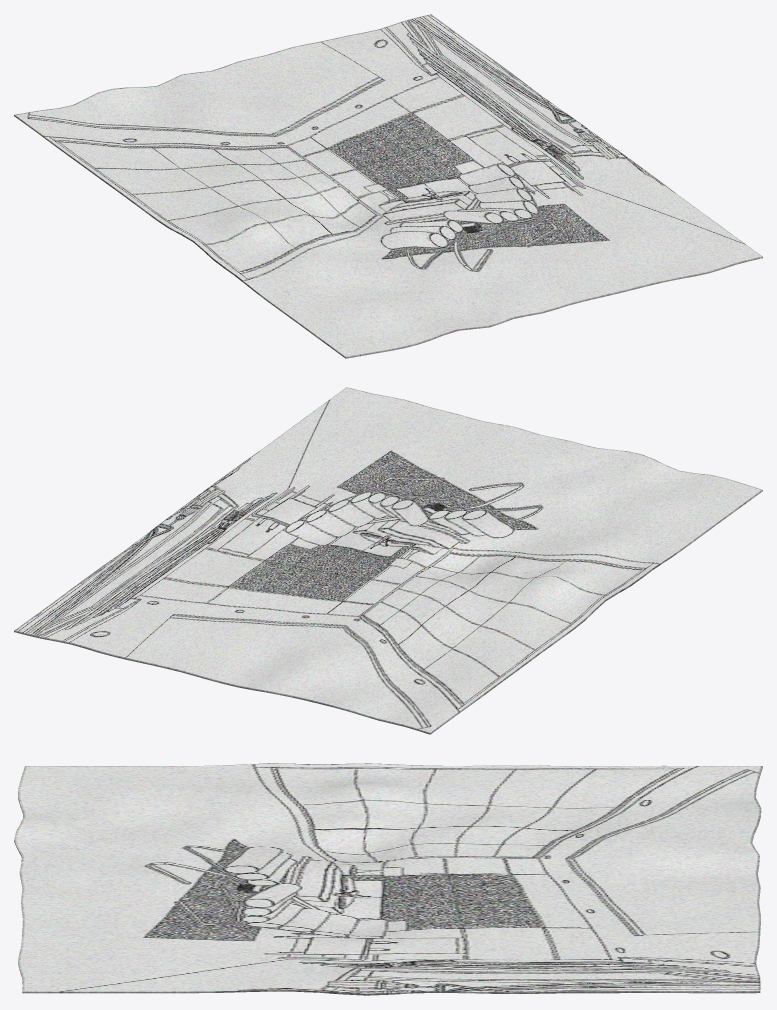
The model's file is 設計圖1.fbx.
3 views of the same model, one above another, from view 1: azimuth 30°, elevation 25°; view 2: azimuth 150°, elevation 25°; view 3: azimuth 270°, elevation 25° (orthographic). The views are drawn at different scales.
Parts seen in each view (by area): view 1: Plane001; view 2: Plane001; view 3: Plane001.
Part boxes in pixels (x1,y1,x2,y2): Plane001: [14, 14, 762, 358]; Plane001: [14, 387, 762, 734]; Plane001: [14, 763, 762, 995].
Bounding box in the file's own units: 211 × 8.03 × 294.
Materials: 1 (1 with a texture image).
